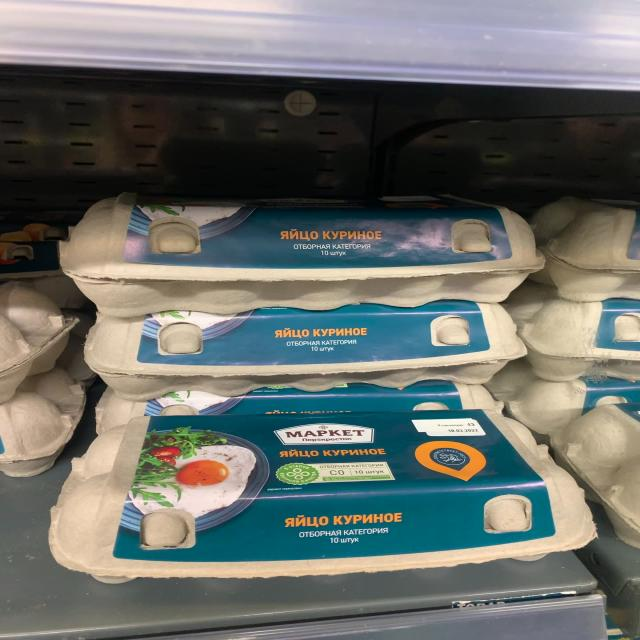egg box: (46, 403, 600, 585), (58, 191, 550, 317), (81, 300, 532, 404)
